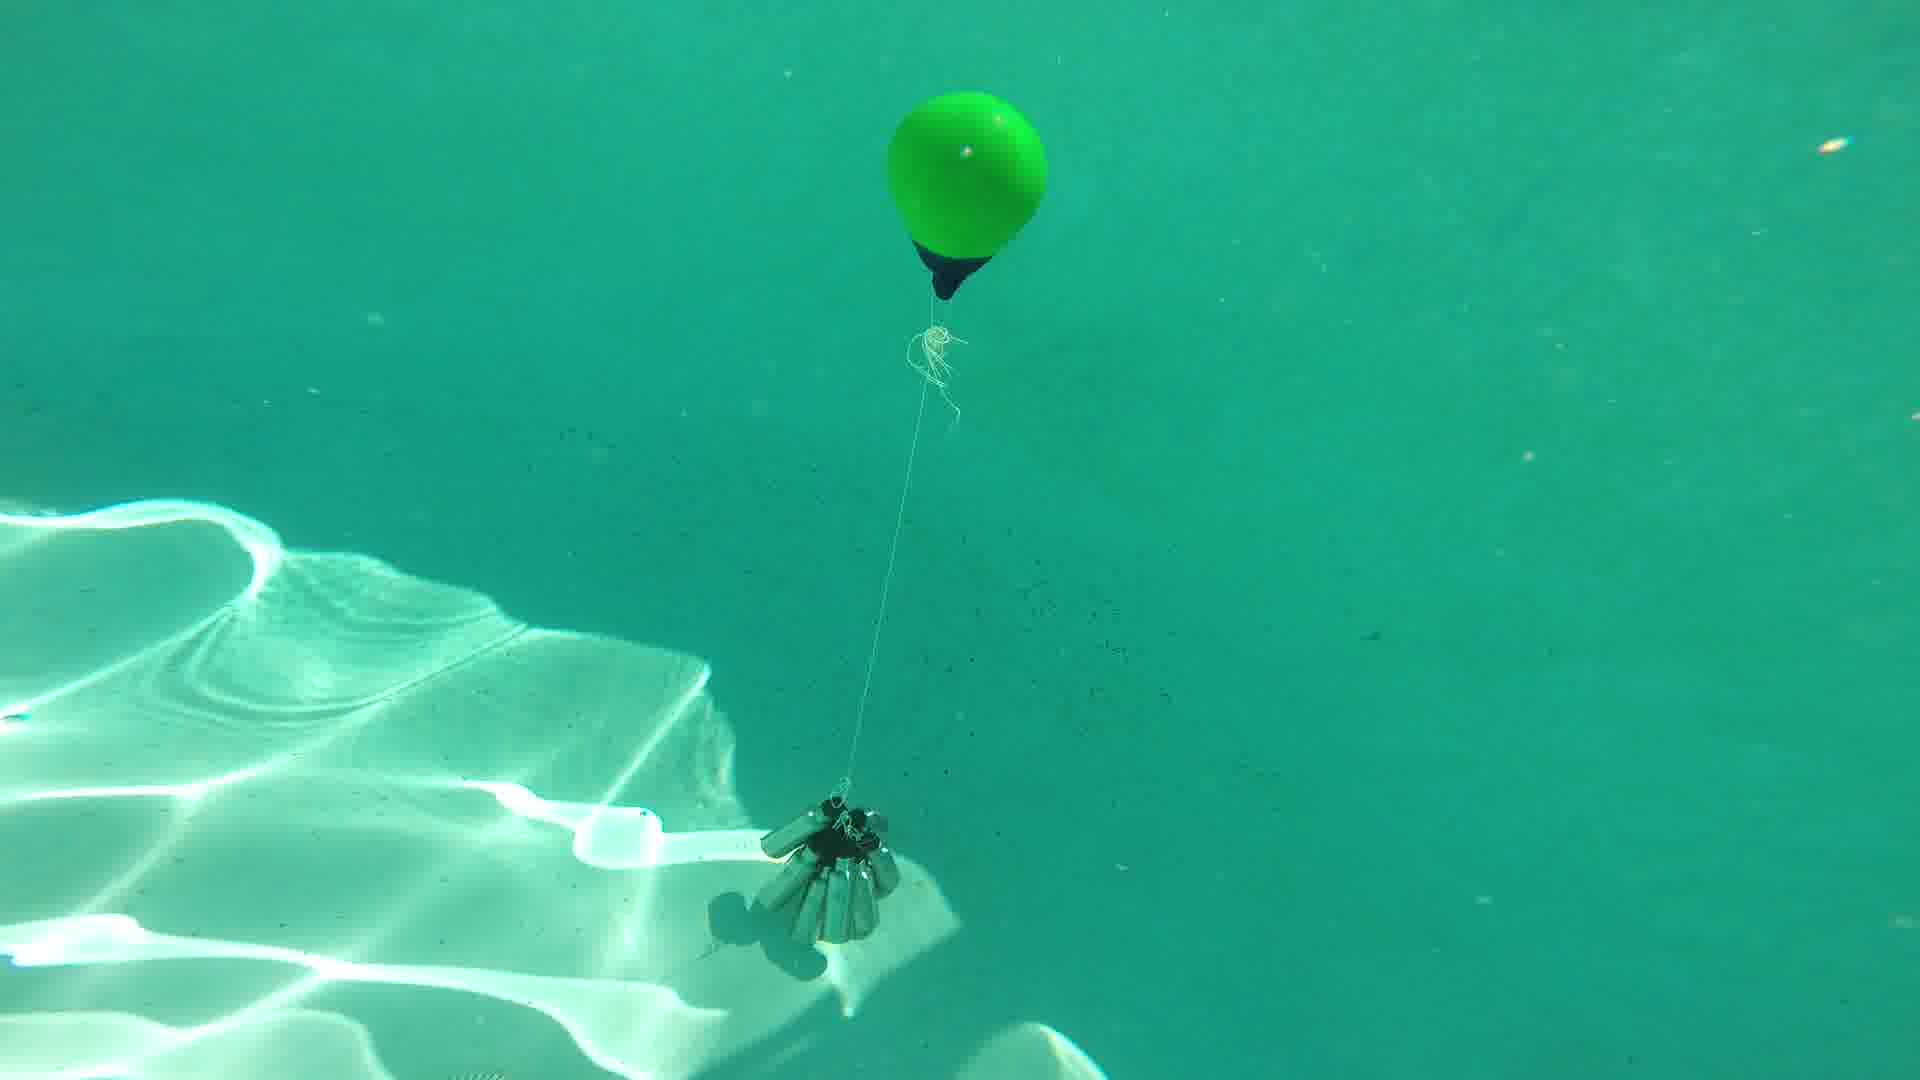yellow_buoy: (886, 88, 1047, 303)
